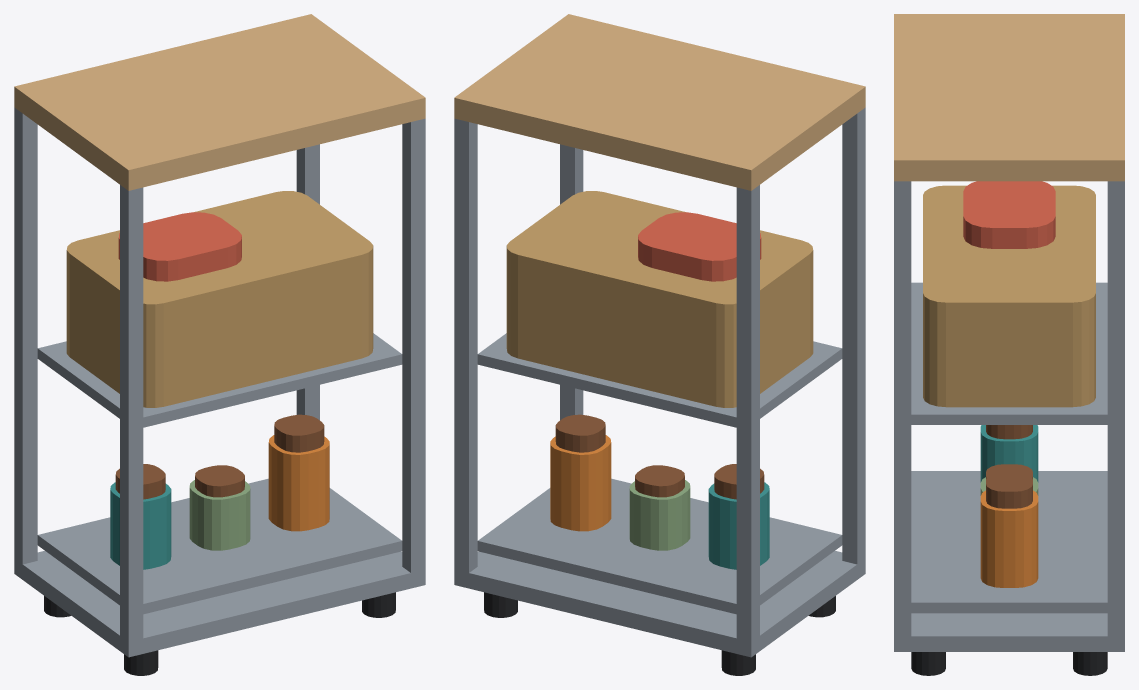
File: rolling_kitchen_cart.glb
3 renders of one model, left to right at view 1: azimuth 30°, elevation 25°; view 2: azimuth 150°, elevation 25°; view 3: azimuth 270°, elevation 25°, orthographic.
Parts seen in each view (by area): view 1: rolling_kitchen_cart_Body; view 2: rolling_kitchen_cart_Body; view 3: rolling_kitchen_cart_Body.
Boxes of the visible parts, left/top/right/bottom form: rolling_kitchen_cart_Body: left=14, top=14, right=425, bottom=675; rolling_kitchen_cart_Body: left=454, top=14, right=865, bottom=675; rolling_kitchen_cart_Body: left=894, top=14, right=1124, bottom=675.
Size of the model in its own units: 0.6 by 1 by 0.4.
